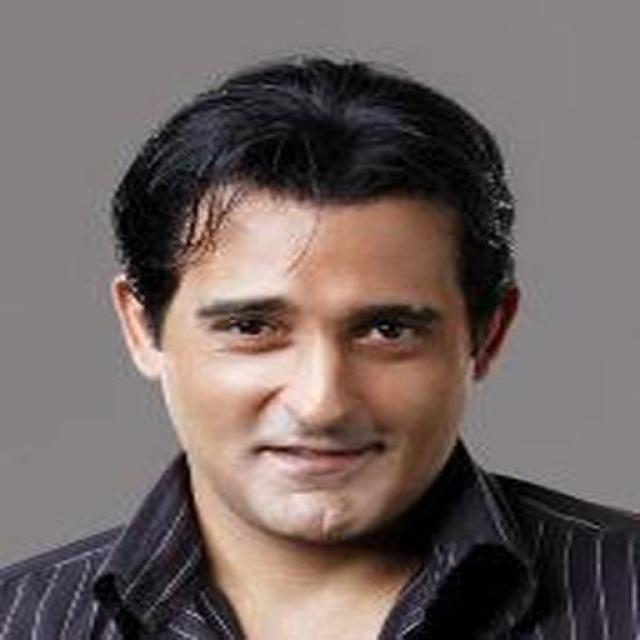bareface: (91, 103, 525, 542)
